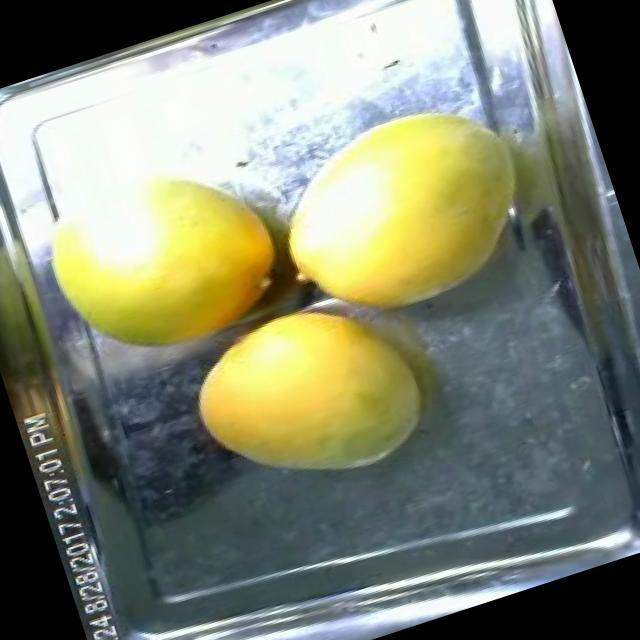fruit: (244, 68, 564, 351), (24, 131, 308, 390), (169, 265, 453, 522), (0, 217, 96, 470)
